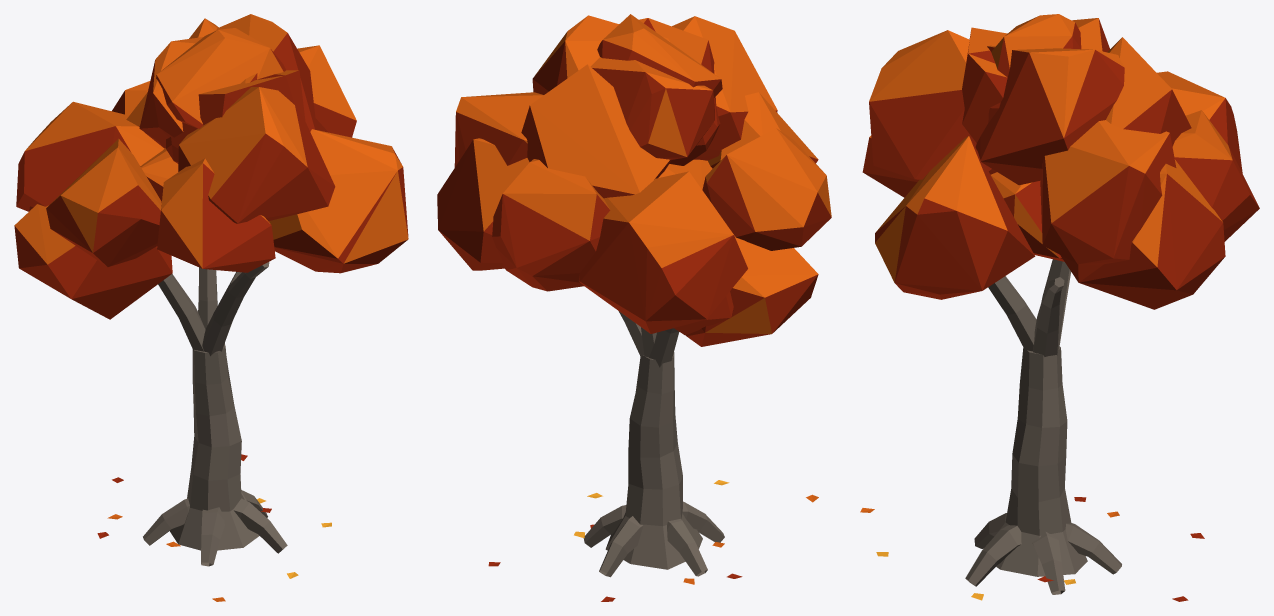
The model's file is tree_maple.glb.
The picture shows the model from 3 angles, left to right: view 1: azimuth 30°, elevation 25°; view 2: azimuth 150°, elevation 25°; view 3: azimuth 270°, elevation 25°; orthographic projection. The views are drawn at different scales.
Parts seen in each view (by area): view 1: TreeMaple; view 2: TreeMaple; view 3: TreeMaple.
Boxes of the visible parts, x1,y1,x2,y2 form: TreeMaple: [14, 14, 408, 601]; TreeMaple: [437, 14, 831, 601]; TreeMaple: [860, 14, 1259, 601].
Size of the model in its own units: 3.69 by 5.53 by 3.58.
